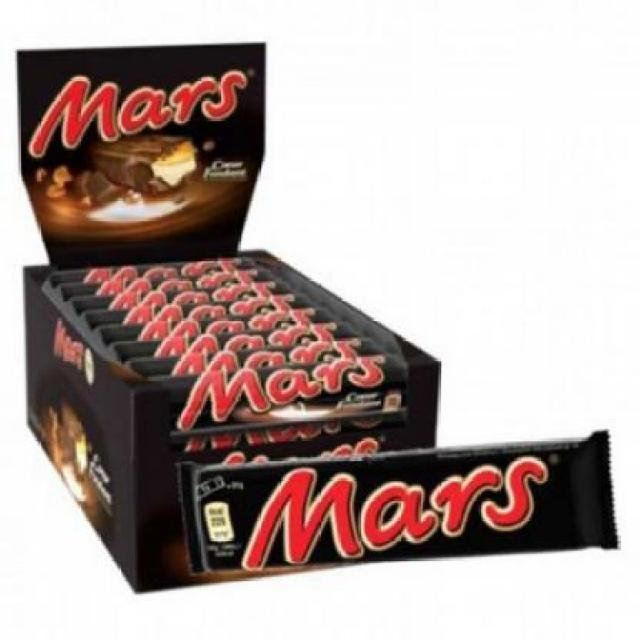Chocolate bar: (175, 434, 628, 574)
